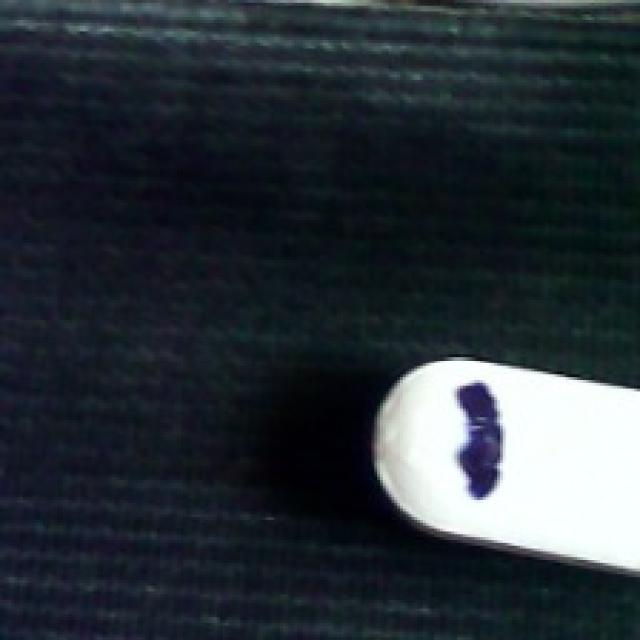defected: (360, 348, 637, 568)
